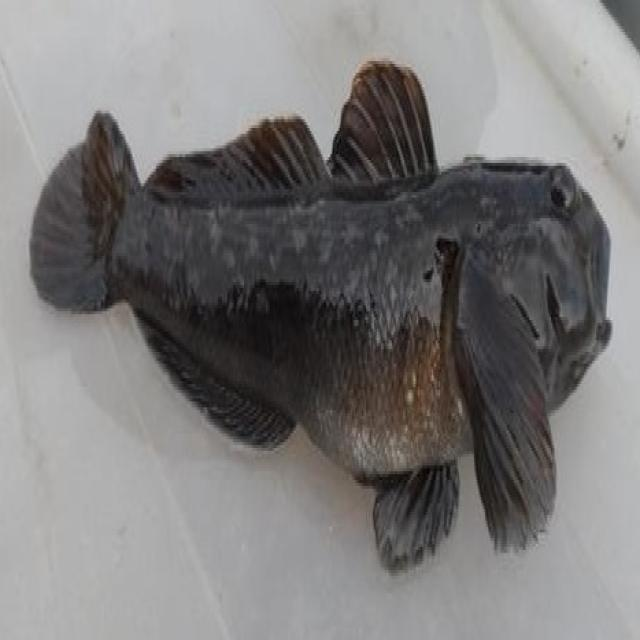Goby: (30, 62, 618, 602)
